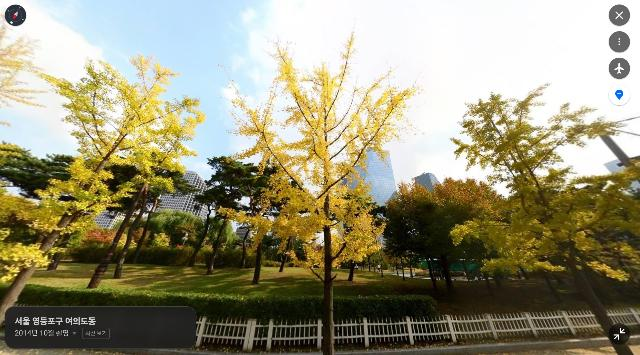ginkgo: (215, 18, 427, 355), (0, 52, 207, 322), (449, 81, 639, 355), (0, 165, 88, 294)
other: (378, 176, 501, 299), (186, 158, 236, 276), (141, 213, 240, 271)
